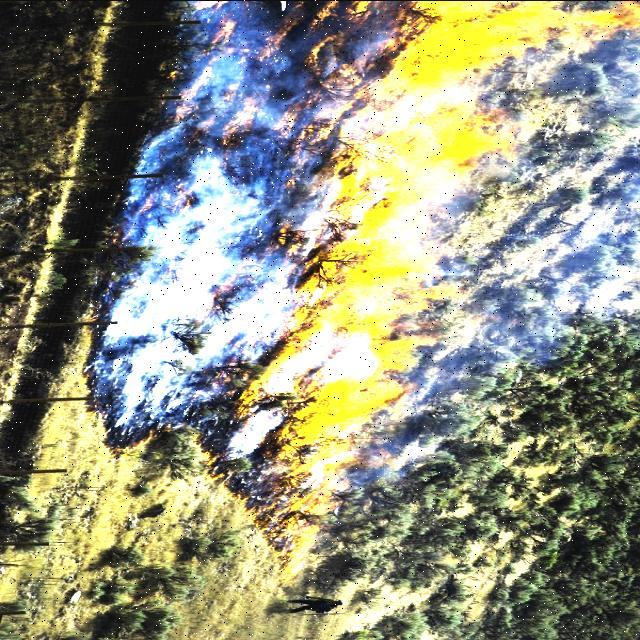api: (405, 2, 640, 83), (372, 75, 480, 205), (288, 375, 420, 446), (368, 198, 453, 293), (328, 124, 370, 277), (311, 286, 421, 326), (374, 329, 442, 371), (297, 451, 361, 479), (480, 119, 510, 169)
asap: (95, 116, 265, 421), (165, 1, 328, 113), (258, 141, 312, 323), (290, 332, 378, 369), (222, 409, 278, 457), (333, 22, 391, 66)
